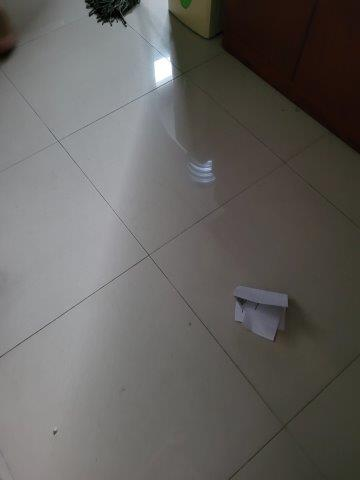kertas: (234, 287, 288, 339)
